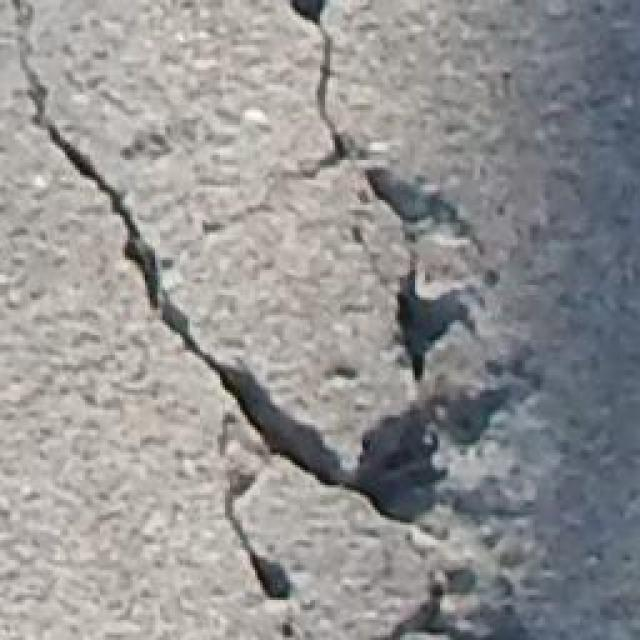concrete-crack: (9, 0, 533, 640)
